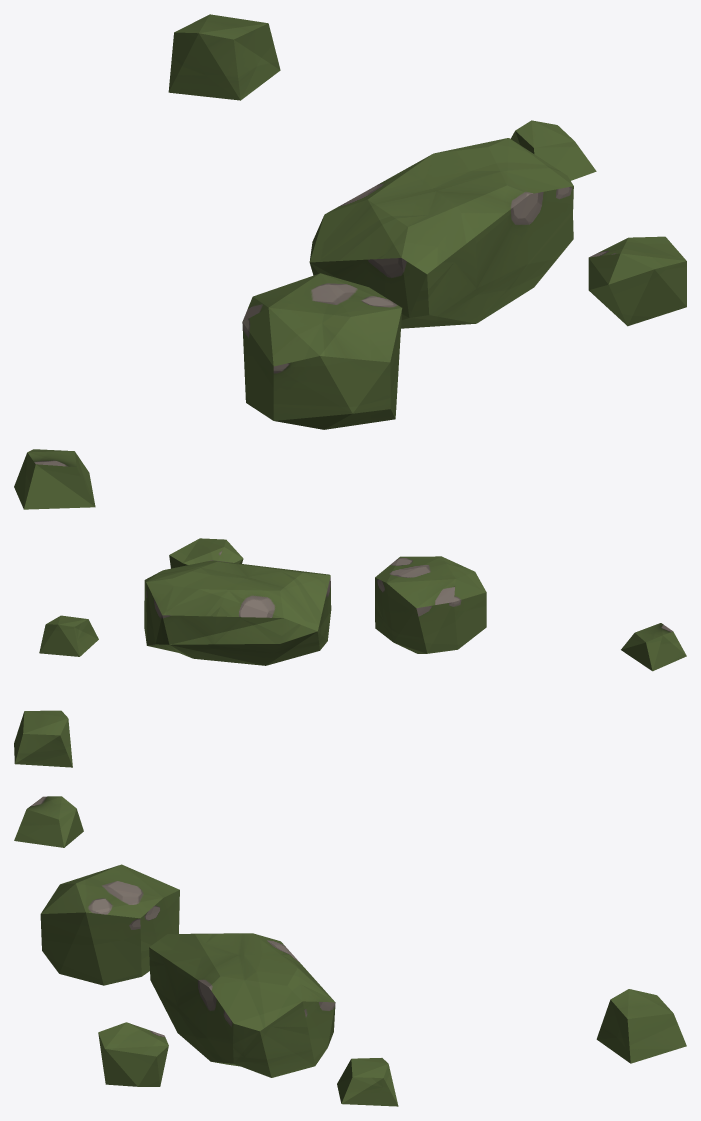
The model's file is synty-terrain-rubble-pebbles-01.gltf.
The picture shows the model from 3 angles, top to bottom: view 1: azimuth 30°, elevation 25°; view 2: azimuth 150°, elevation 25°; view 3: azimuth 270°, elevation 25°; orthographic projection. The views are drawn at different scales.
Parts seen in each view (by area): view 1: SM_Terrain_Rubble_Pebbles_01; view 2: SM_Terrain_Rubble_Pebbles_01; view 3: SM_Terrain_Rubble_Pebbles_01.
Part boxes in pixels (x1,y1,x2,y2): SM_Terrain_Rubble_Pebbles_01: [14, 14, 686, 509]; SM_Terrain_Rubble_Pebbles_01: [14, 538, 686, 767]; SM_Terrain_Rubble_Pebbles_01: [14, 796, 686, 1106].
Bounding box in the file's own units: 1.92 × 0.2812 × 1.91.
1 material, 1 textured.
